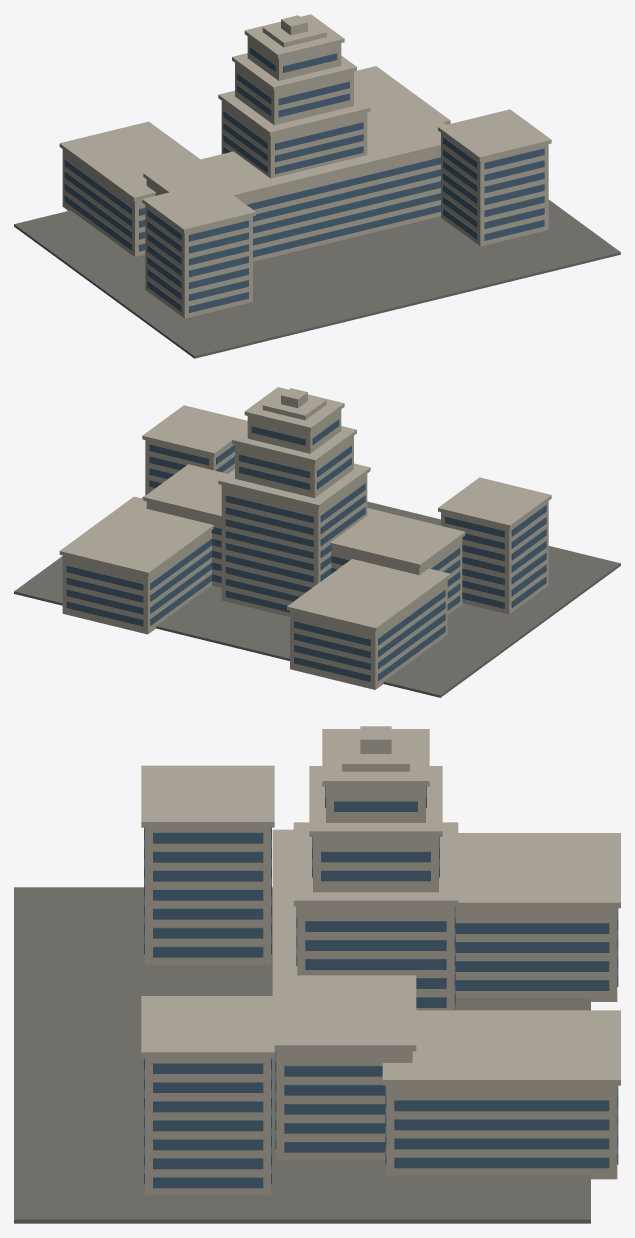
The model's file is senate_house.glb.
3 renders of one model, top to bottom at view 1: azimuth 30°, elevation 25°; view 2: azimuth 150°, elevation 25°; view 3: azimuth 270°, elevation 25°, orthographic. The views are drawn at different scales.
Parts seen in each view (by area): view 1: senate_house; view 2: senate_house; view 3: senate_house.
Boxes of the visible parts, <box> form: senate_house: <box>14,14,620,358</box>; senate_house: <box>14,387,620,697</box>; senate_house: <box>14,726,620,1223</box>.
Size of the model in its own units: 150 by 68.2 by 116.
